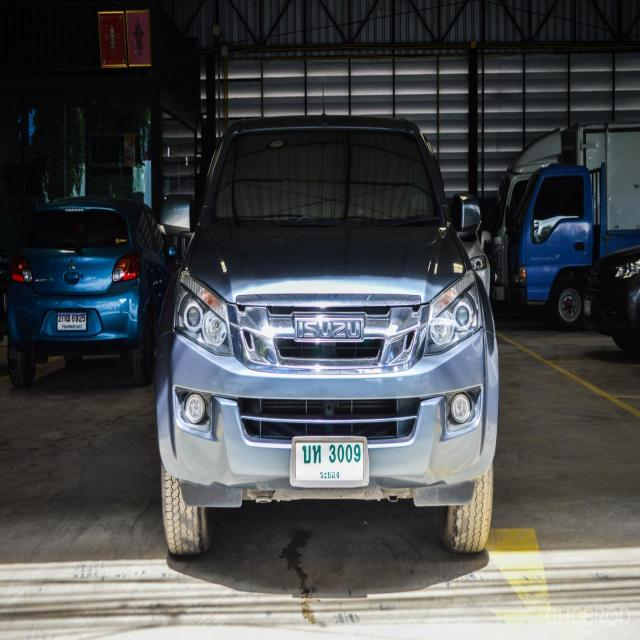license_plate: (291, 436, 370, 487)
